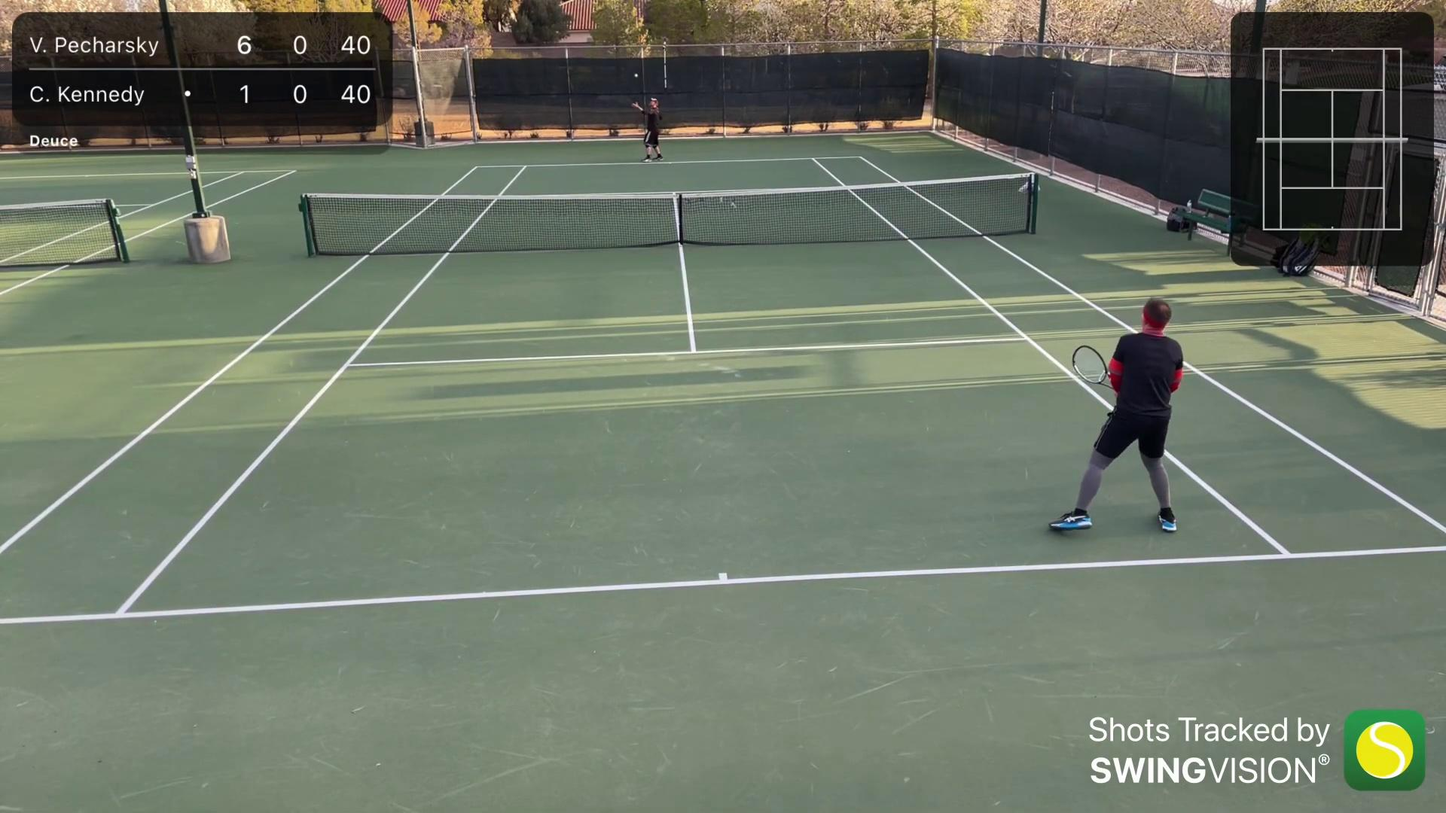ball: (633, 71, 639, 78)
